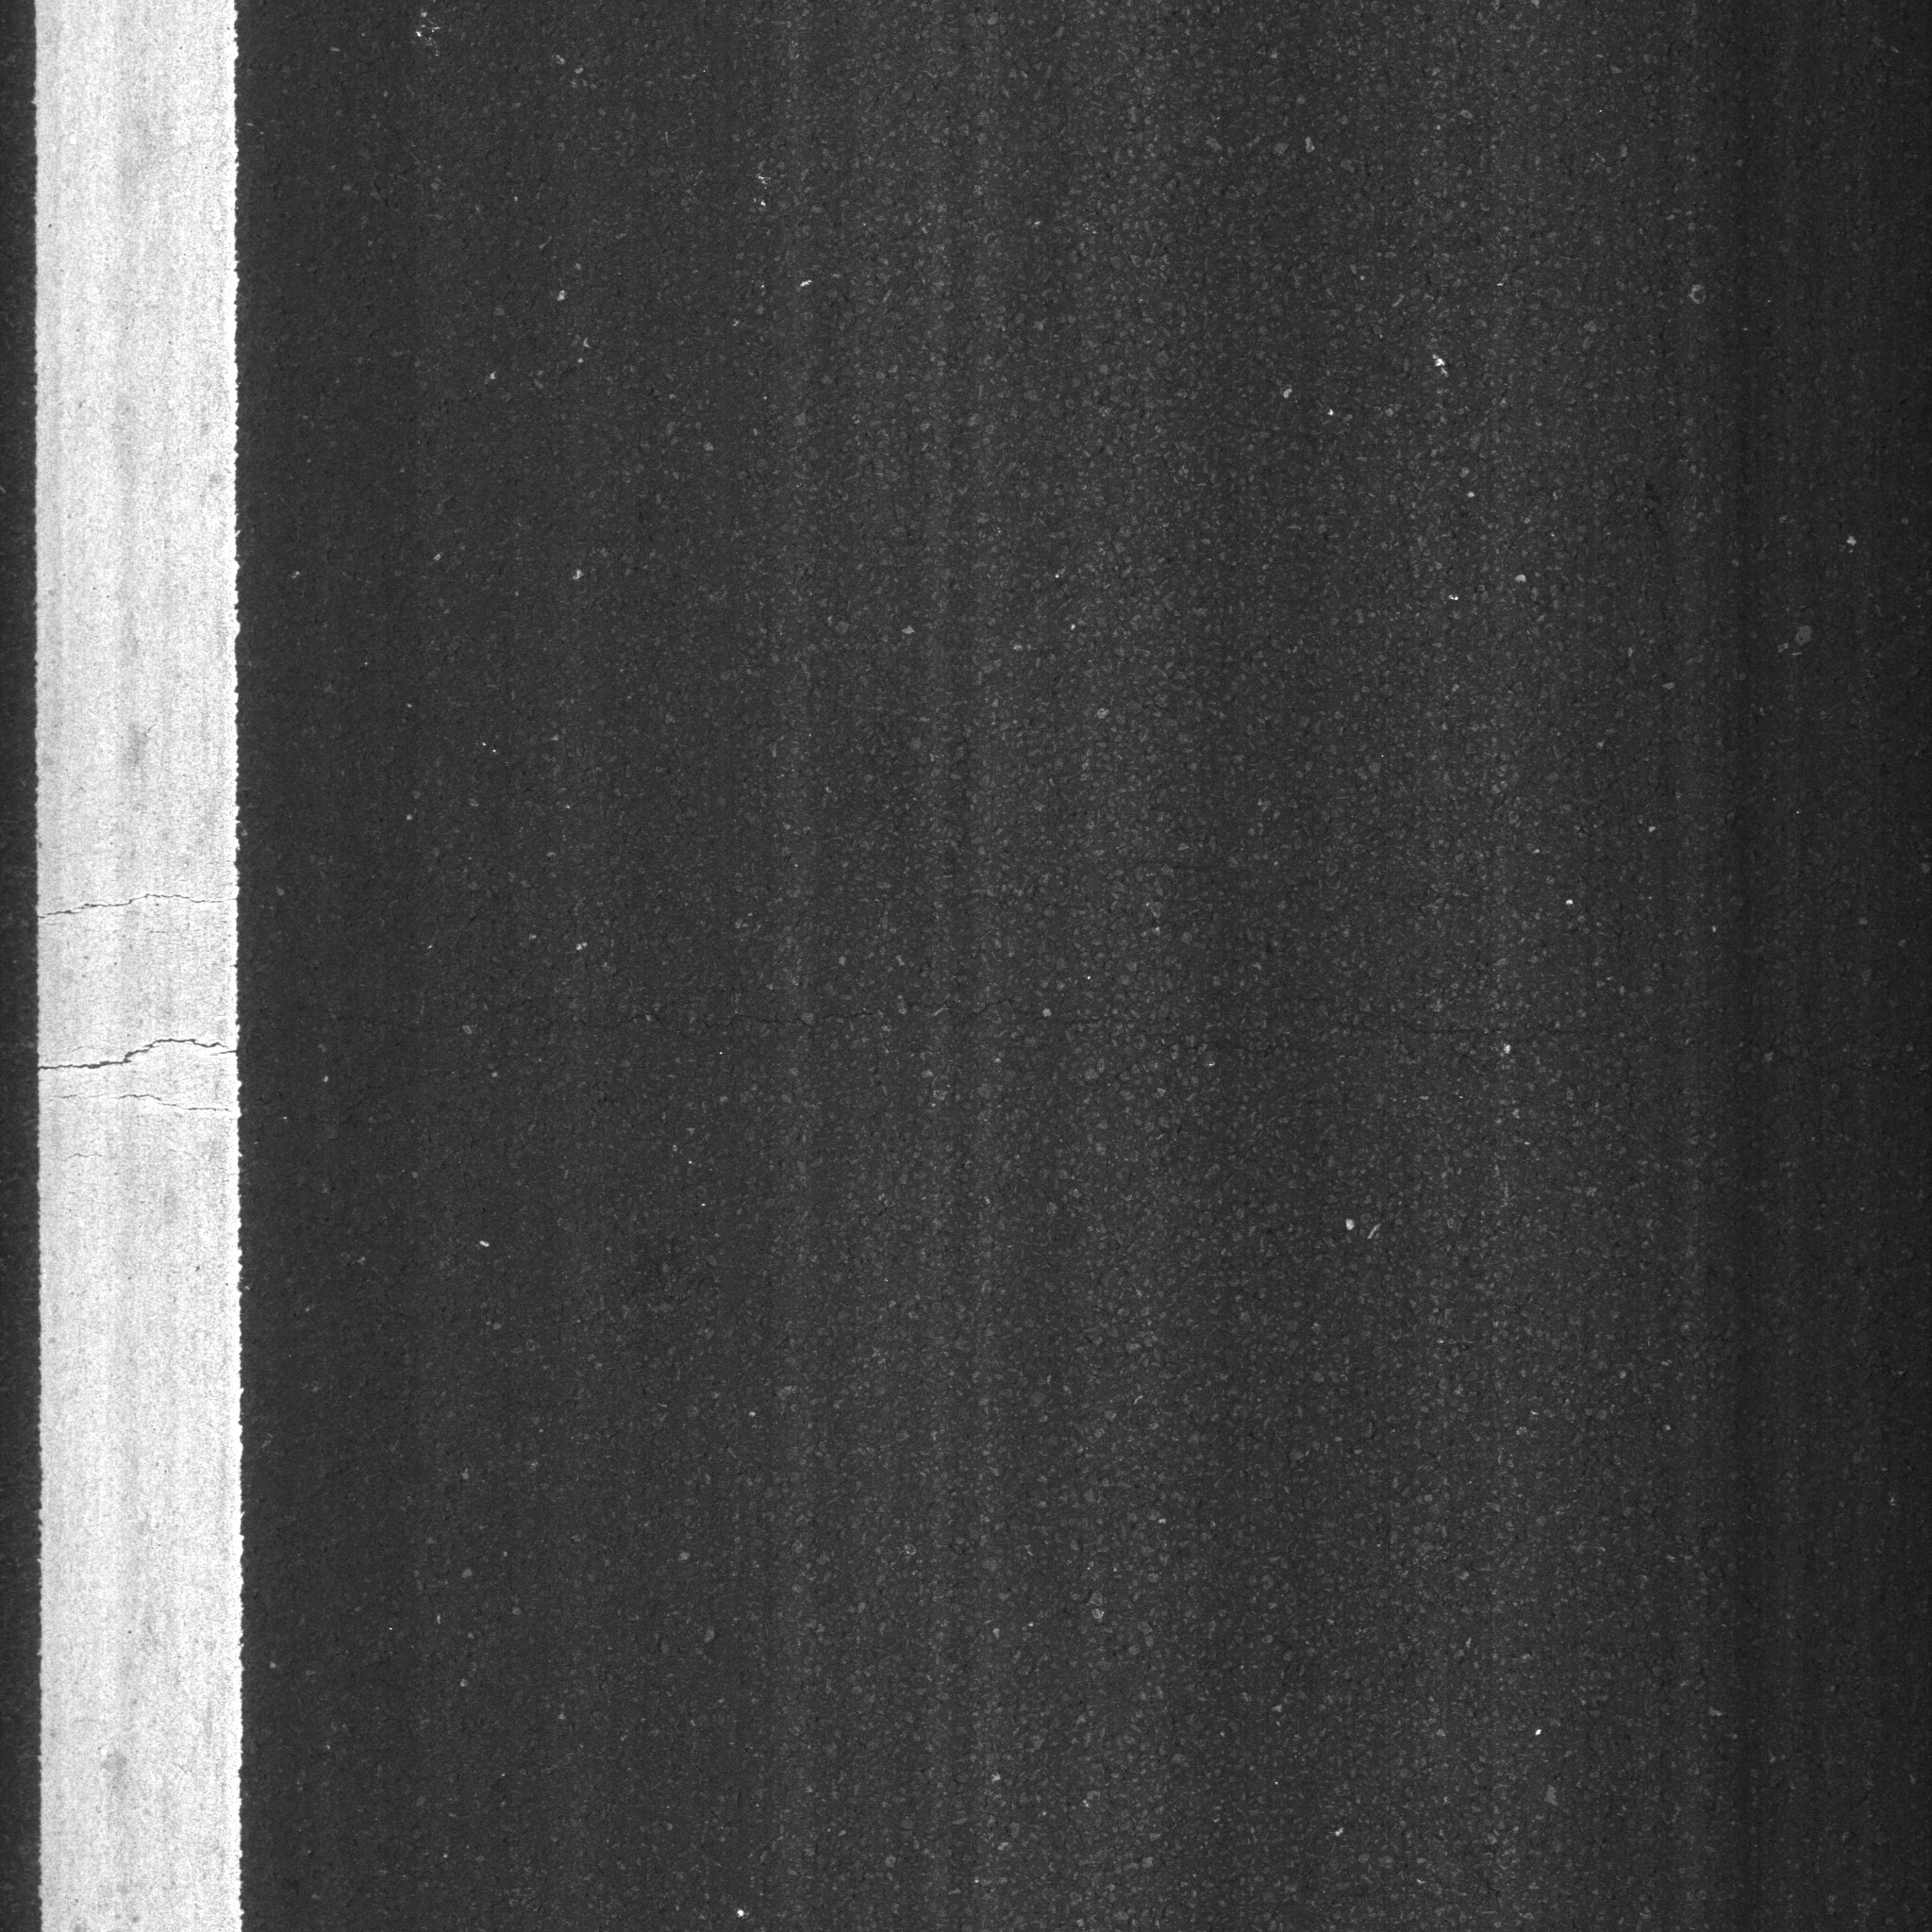transeverse: (11, 993, 1932, 1104), (21, 872, 341, 929)
